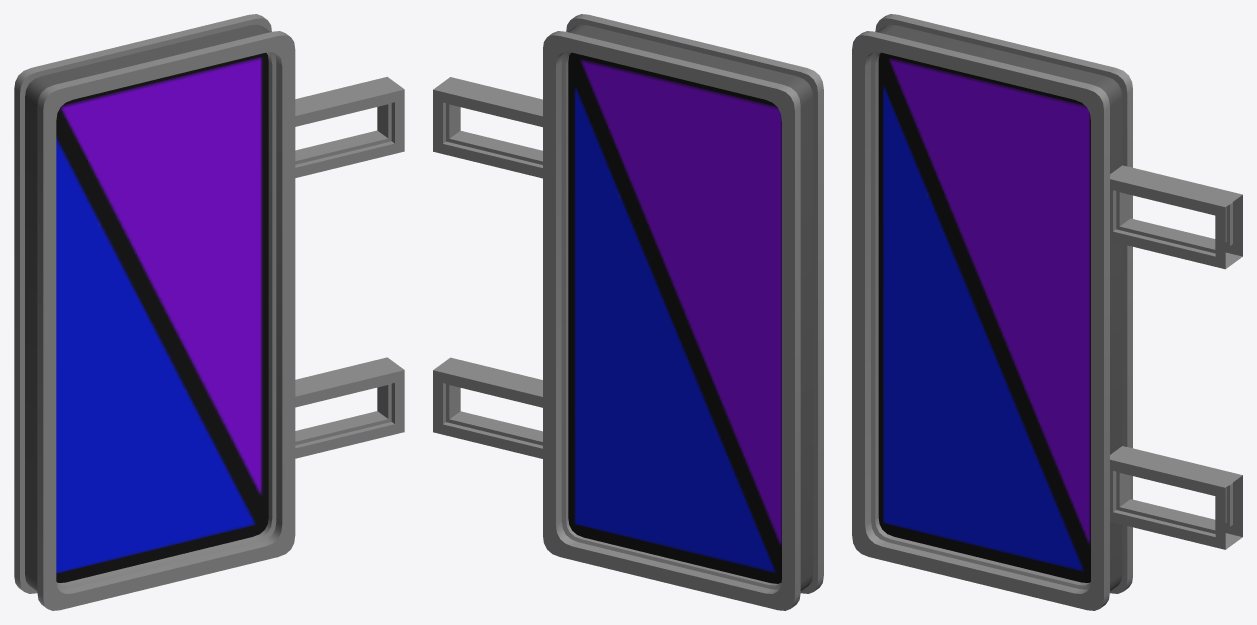
3 views of the same model, side by side, from view 1: azimuth 30°, elevation 25°; view 2: azimuth 150°, elevation 25°; view 3: azimuth 330°, elevation 25° (orthographic).
Parts seen in each view (by area): view 1: MS_2M_2; view 2: MS_2M_2; view 3: MS_2M_2.
Boxes of the visible parts, x1,y1,x2,y2 form: MS_2M_2: (14, 14, 404, 610); MS_2M_2: (433, 14, 823, 610); MS_2M_2: (852, 14, 1242, 610).
Bounding box in the file's own units: 146 × 198 × 19.93.
